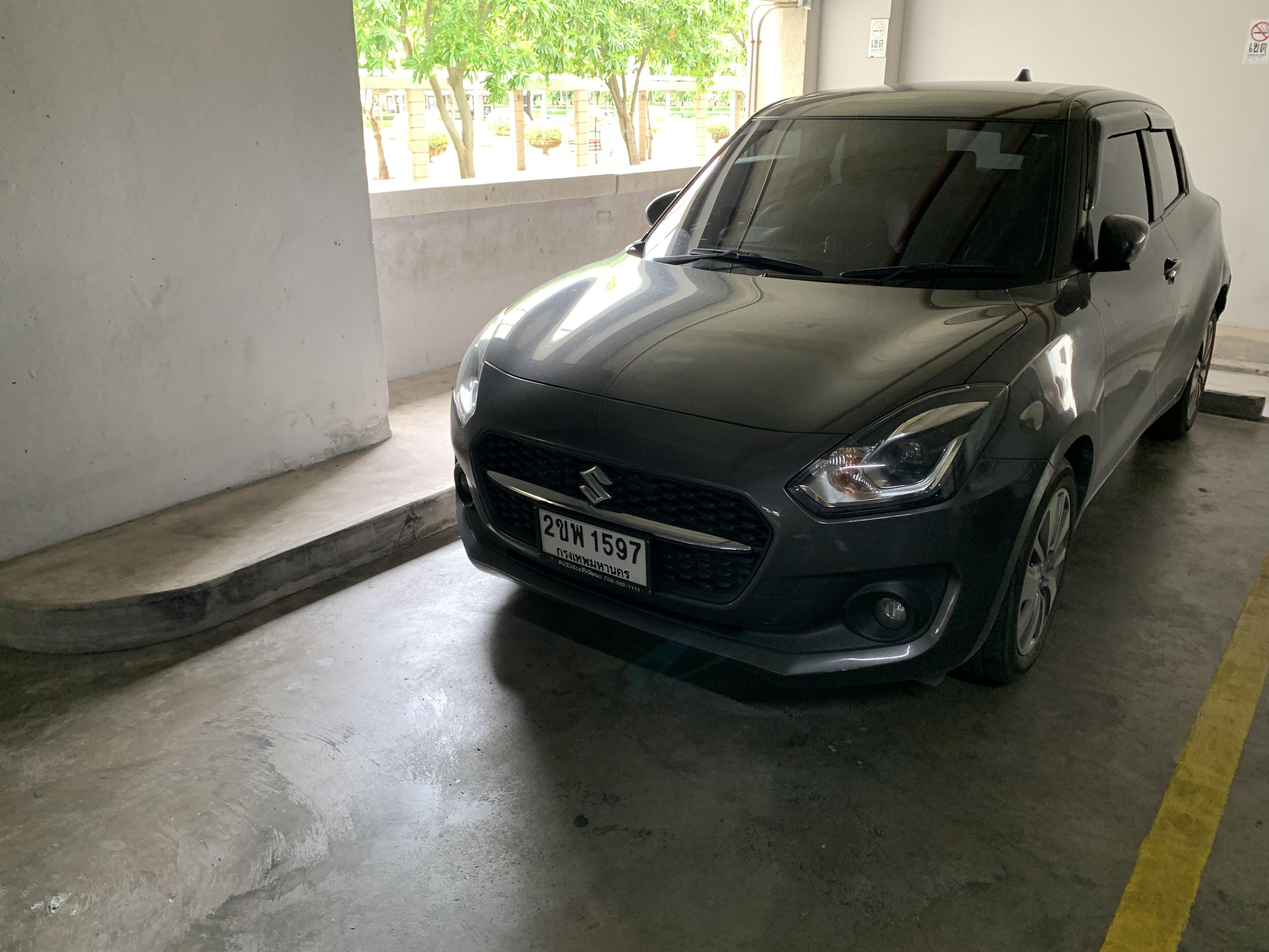license-plate: (531, 497, 657, 597)
